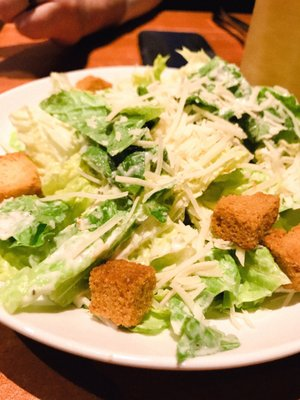pizza: (239, 0, 300, 105)
